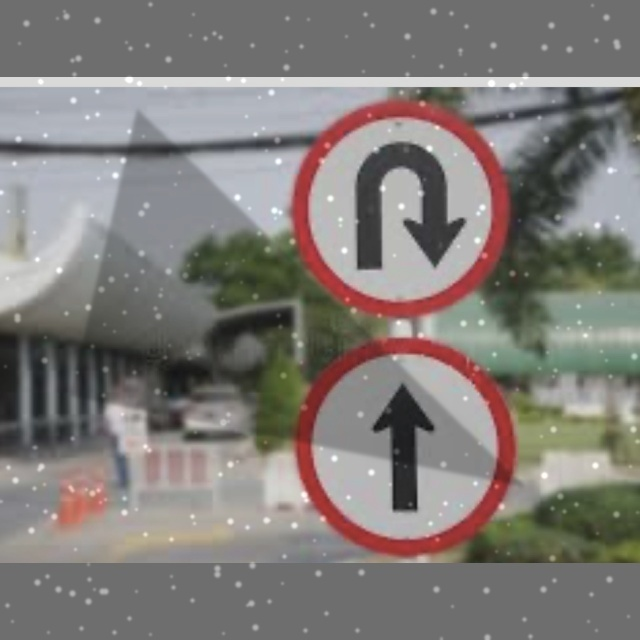U_Turn_Ahead: (296, 104, 511, 306)
